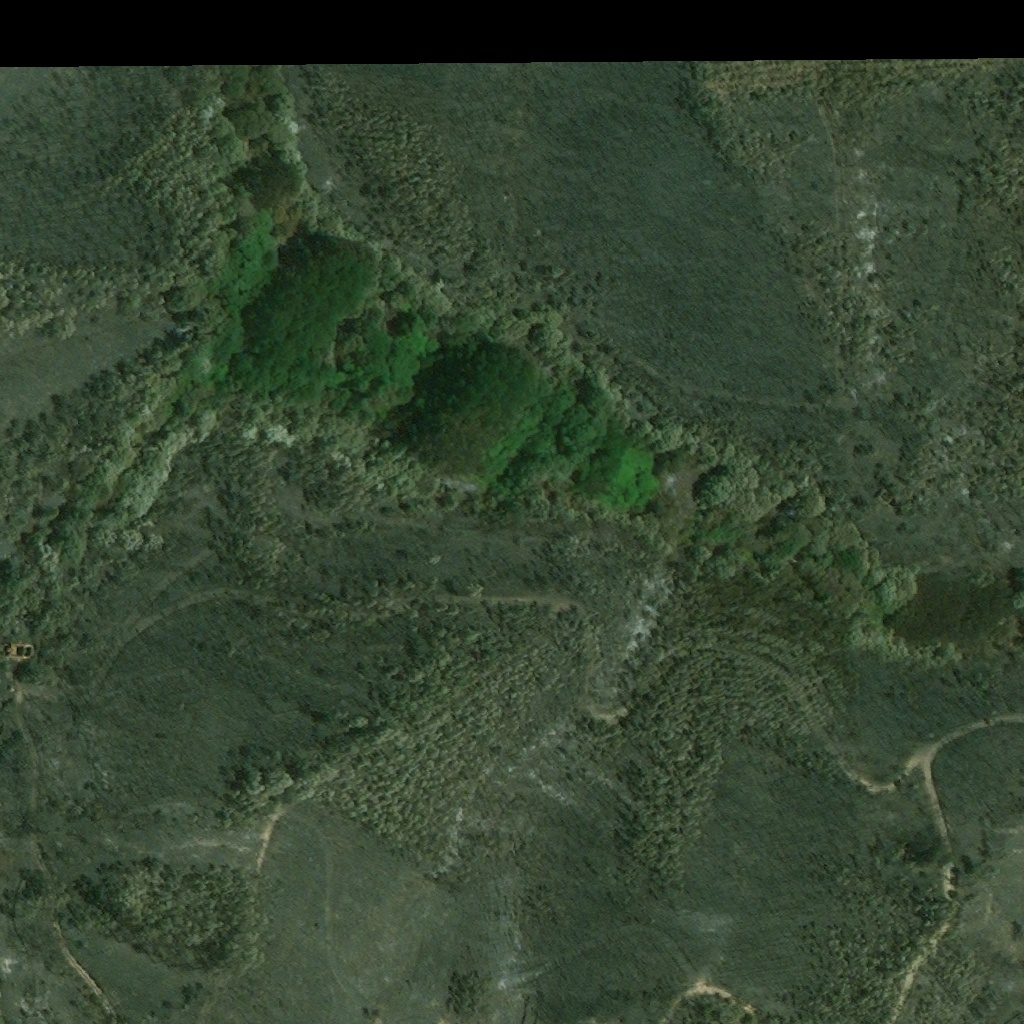3 destroyed: (5, 644, 35, 661)
